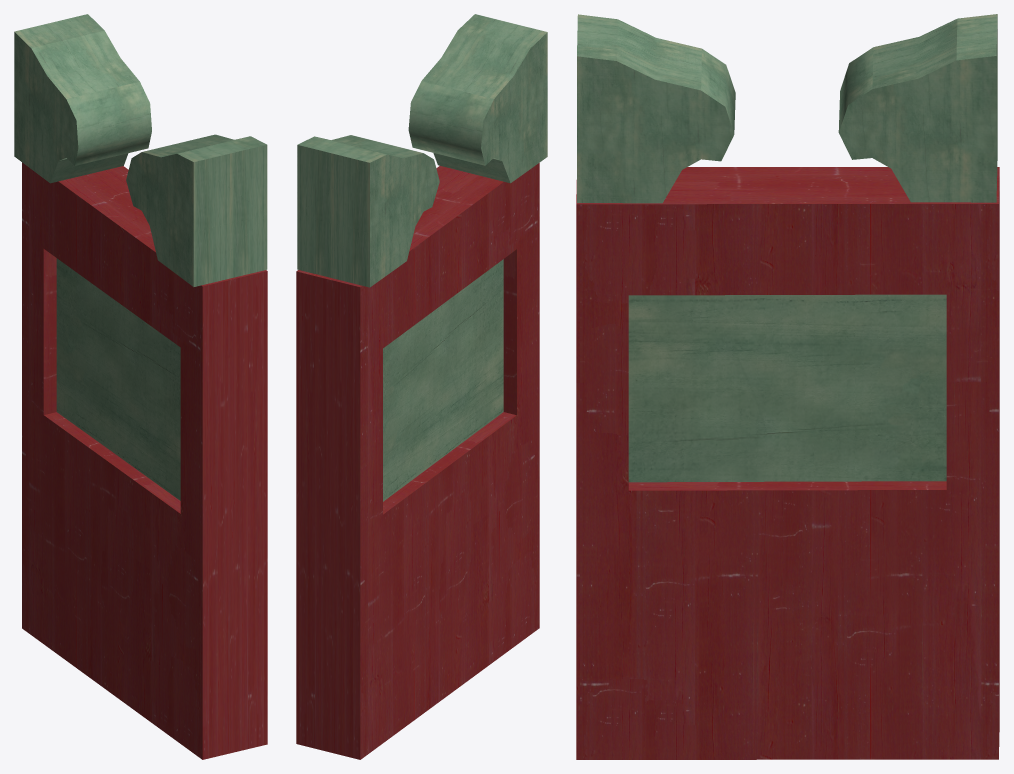
File: SM_M_Handrail_6.fbx
3 views of the same model, side by side, from view 1: azimuth 30°, elevation 25°; view 2: azimuth 150°, elevation 25°; view 3: azimuth 270°, elevation 25° (orthographic). The views are drawn at different scales.
Visible parts, largest first — view 1: SM_M_Handrail_6_LOD0; view 2: SM_M_Handrail_6_LOD0; view 3: SM_M_Handrail_6_LOD0.
Boxes of the visible parts, left/top/right/bottom form: SM_M_Handrail_6_LOD0: left=14, top=14, right=267, bottom=759; SM_M_Handrail_6_LOD0: left=296, top=14, right=547, bottom=759; SM_M_Handrail_6_LOD0: left=576, top=14, right=999, bottom=759.
Size of the model in its own units: 9.47 by 37.98 by 69.64.
Materials: 2 (2 with a texture image).
